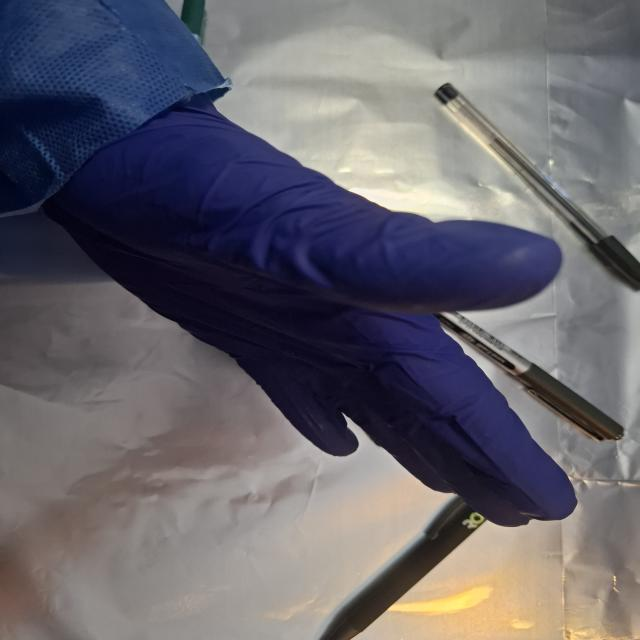glove_on: (35, 84, 581, 530)
